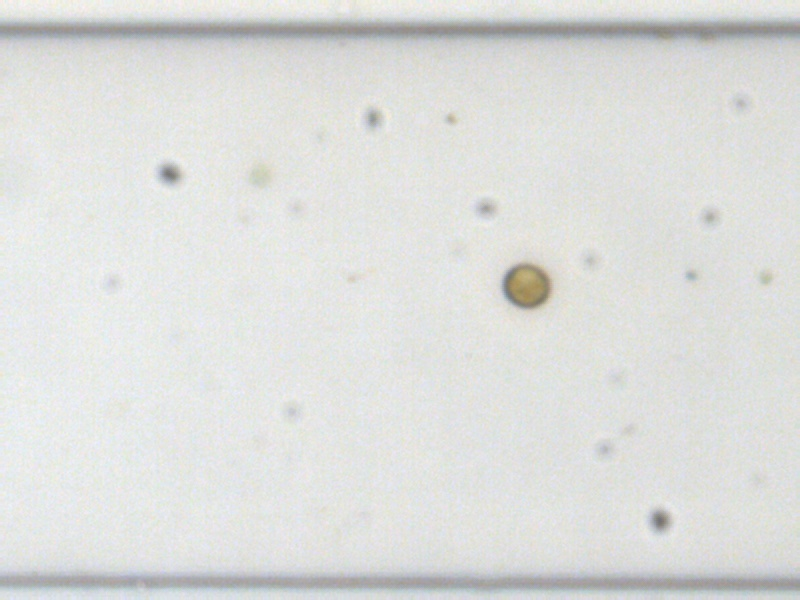Chlorella: (247, 165, 272, 186), (757, 267, 773, 282)
Effrenium: (502, 260, 550, 307)
